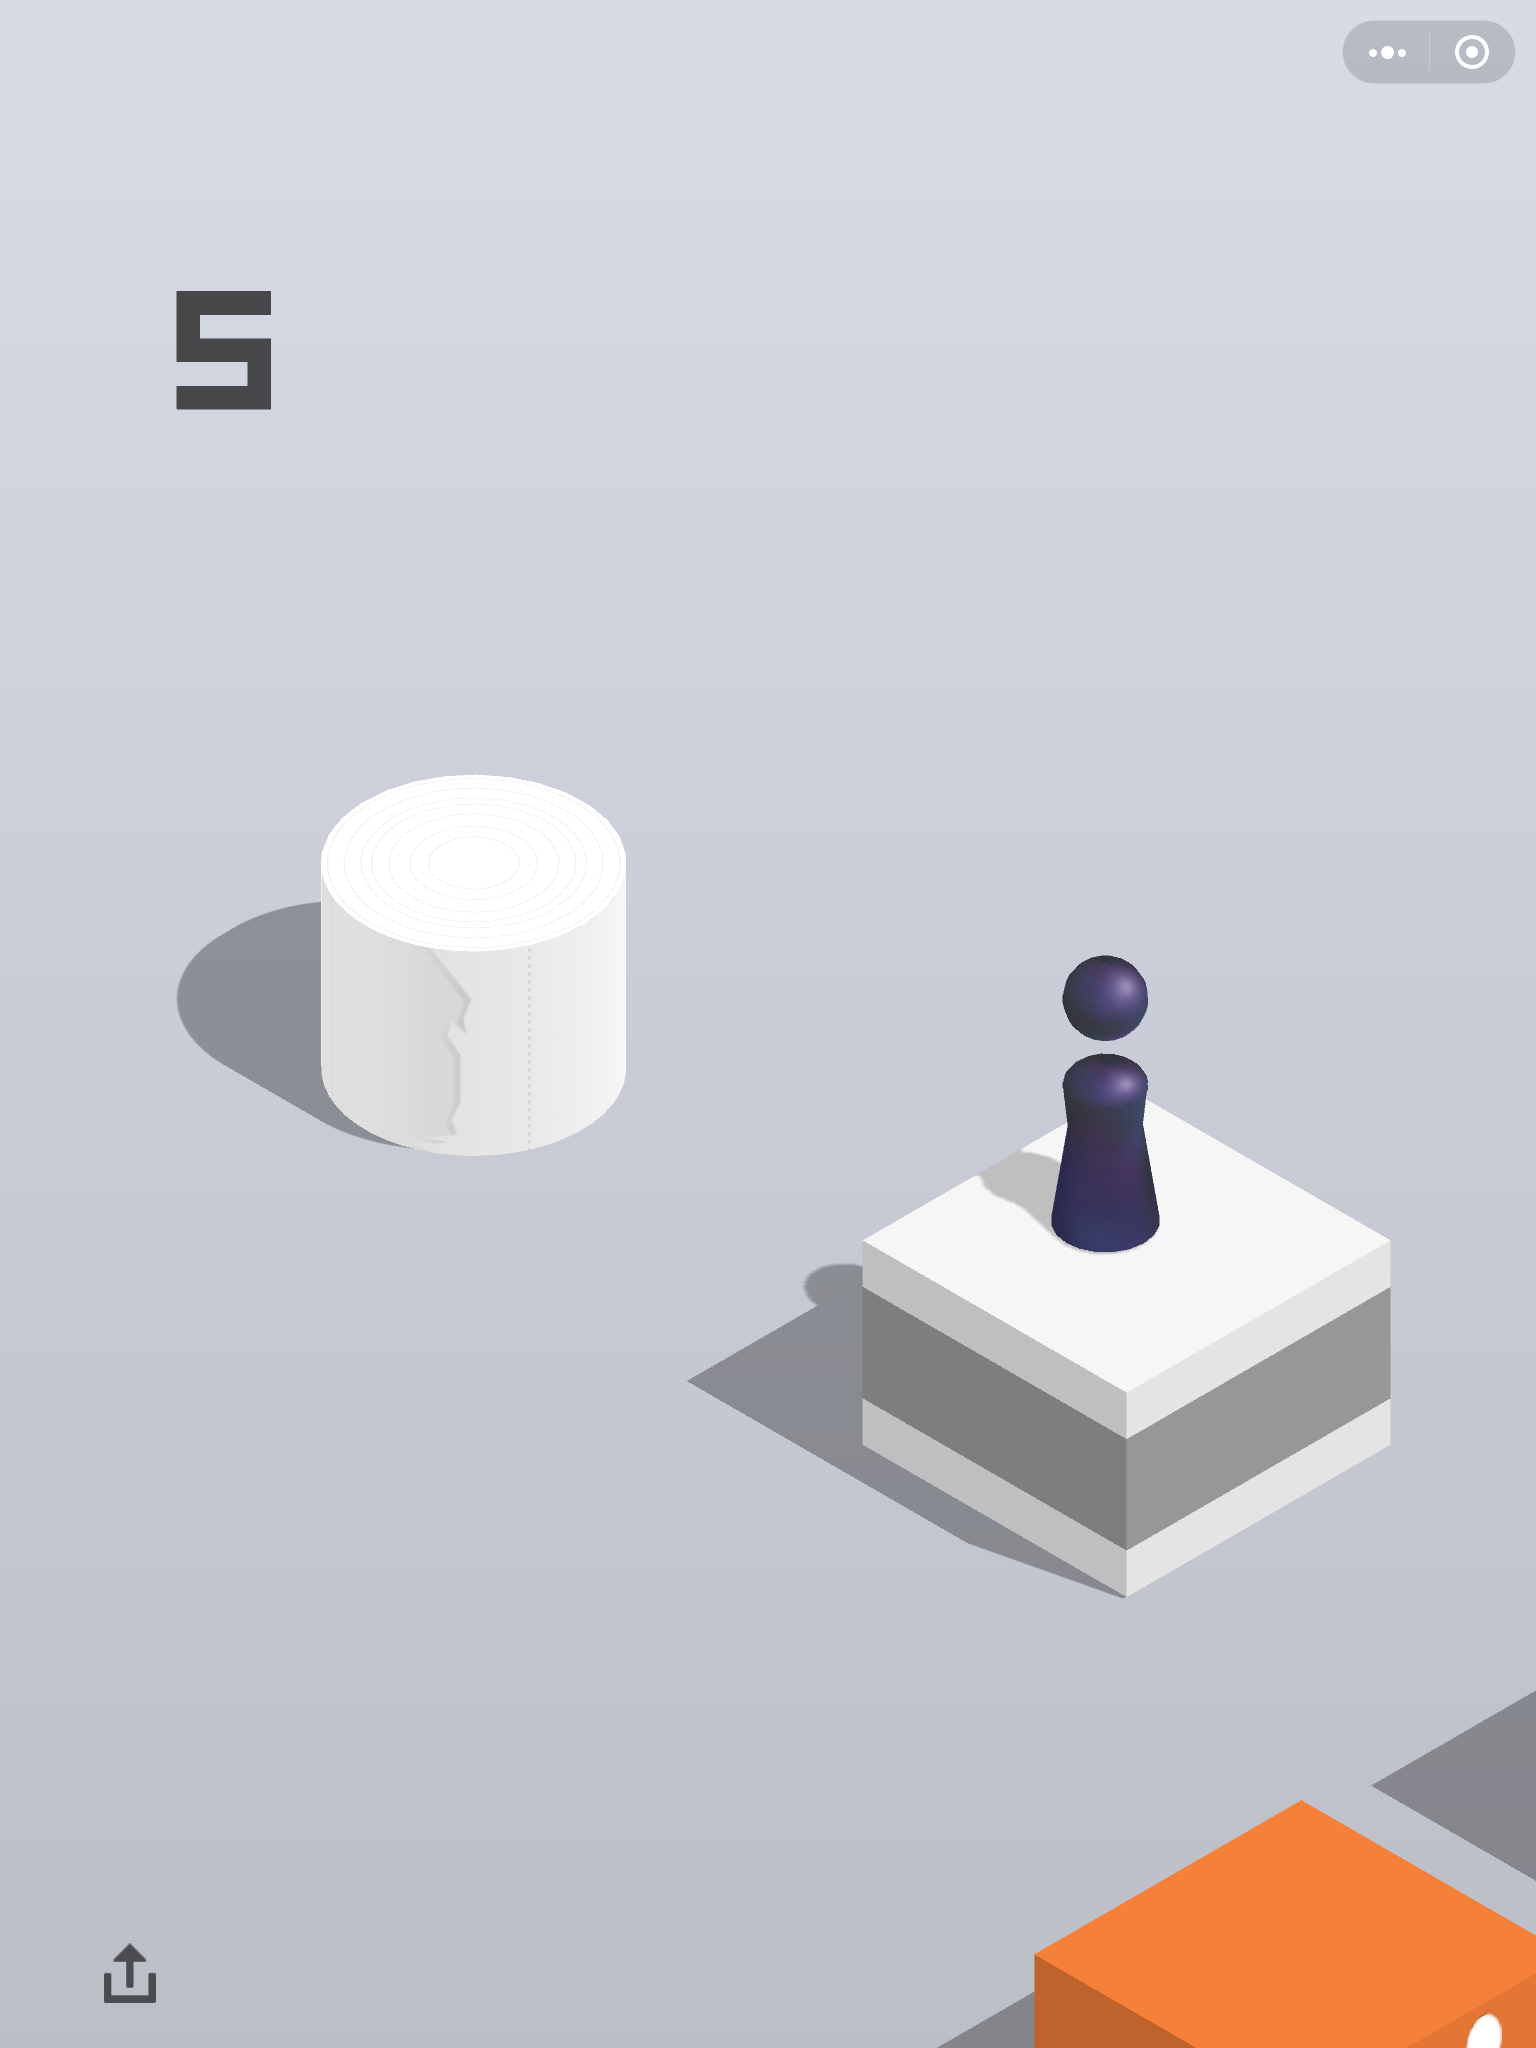c: (311, 764, 634, 1163)
f: (857, 1084, 1400, 1600), (1028, 1795, 1536, 2046)
r: (1042, 950, 1165, 1256)
